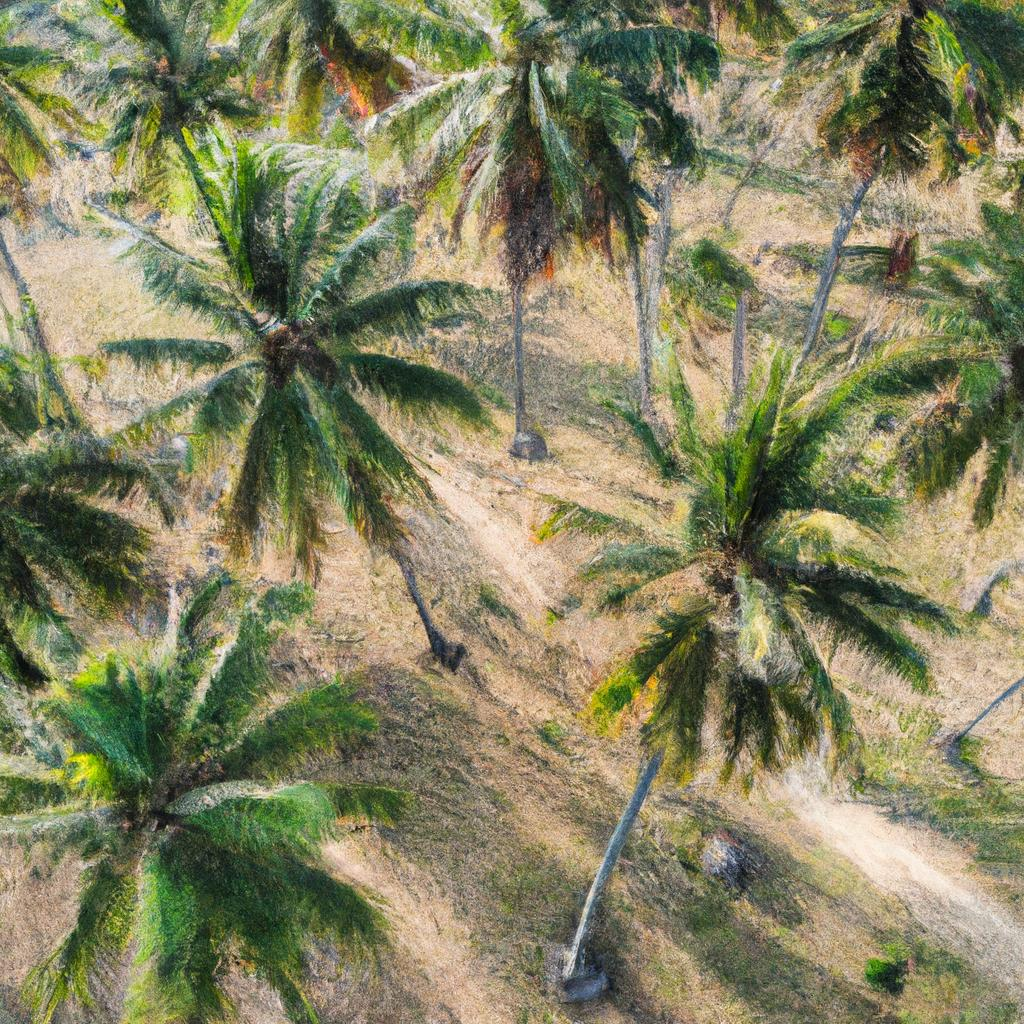coconut_tree: (514, 329, 993, 794), (78, 86, 480, 577), (0, 589, 425, 1013)
